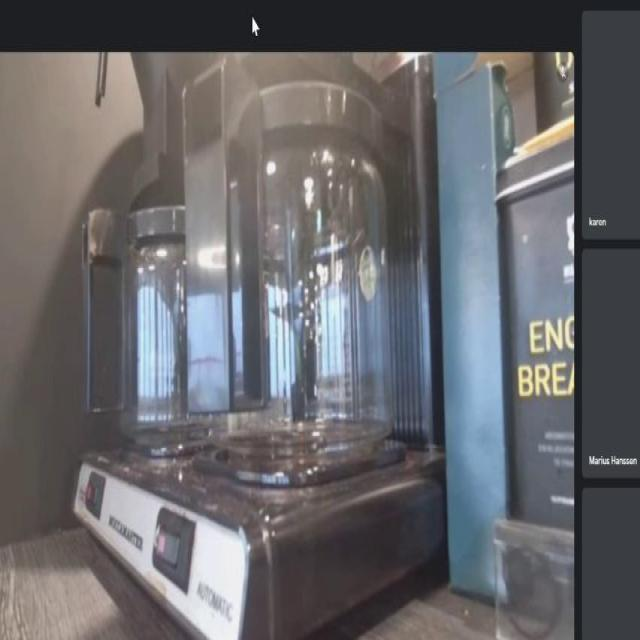nocoffee: (174, 59, 409, 514), (72, 155, 238, 472)
